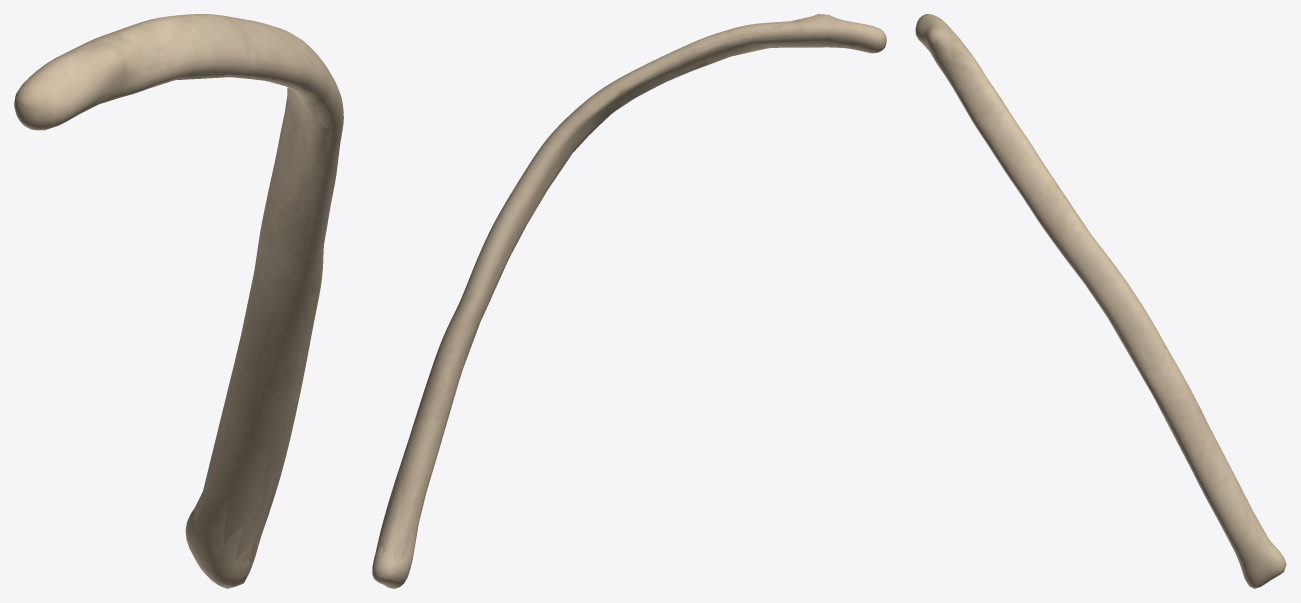
Rendered from Rib L11.fbx.
3 views of the same model, side by side, from view 1: azimuth 30°, elevation 25°; view 2: azimuth 150°, elevation 25°; view 3: azimuth 270°, elevation 25° (orthographic). The views are drawn at different scales.
Parts seen in each view (by area): view 1: Rib L11 low, Rib L11, Rib L11 high; view 2: Rib L11, Rib L11 high, Rib L11 low; view 3: Rib L11 high, Rib L11, Rib L11 low.
Part boxes in pixels (x1=…): Rib L11 low: x1=81, y1=35, x2=335, y2=560; Rib L11: x1=14, y1=14, x2=343, y2=588; Rib L11 high: x1=14, y1=14, x2=343, y2=588; Rib L11: x1=372, y1=14, x2=886, y2=588; Rib L11 high: x1=373, y1=15, x2=886, y2=587; Rib L11 low: x1=379, y1=16, x2=857, y2=559; Rib L11 high: x1=917, y1=14, x2=1285, y2=587; Rib L11: x1=915, y1=14, x2=1286, y2=588; Rib L11 low: x1=924, y1=26, x2=1275, y2=568.
Size of the model in its own units: 13.63 by 20.32 by 15.24.
